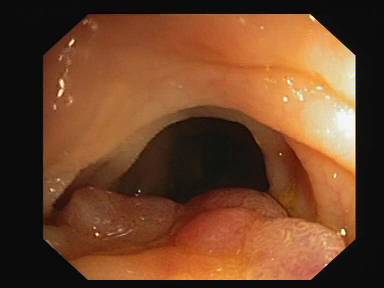polyp: (178, 211, 347, 274), (63, 187, 182, 225), (185, 187, 287, 223)
